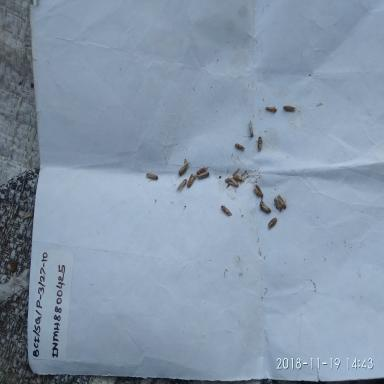pbw: (276, 193, 292, 210), (177, 157, 190, 177), (281, 101, 298, 115), (258, 198, 272, 214), (175, 177, 188, 192), (246, 118, 255, 139), (272, 196, 283, 213), (196, 163, 210, 176), (220, 204, 233, 218), (186, 172, 197, 188), (145, 171, 159, 183), (254, 136, 263, 154), (253, 183, 264, 197), (267, 216, 277, 231), (264, 103, 277, 114), (232, 172, 245, 183), (229, 175, 239, 189), (196, 171, 210, 181), (223, 176, 236, 186), (234, 142, 245, 152)
